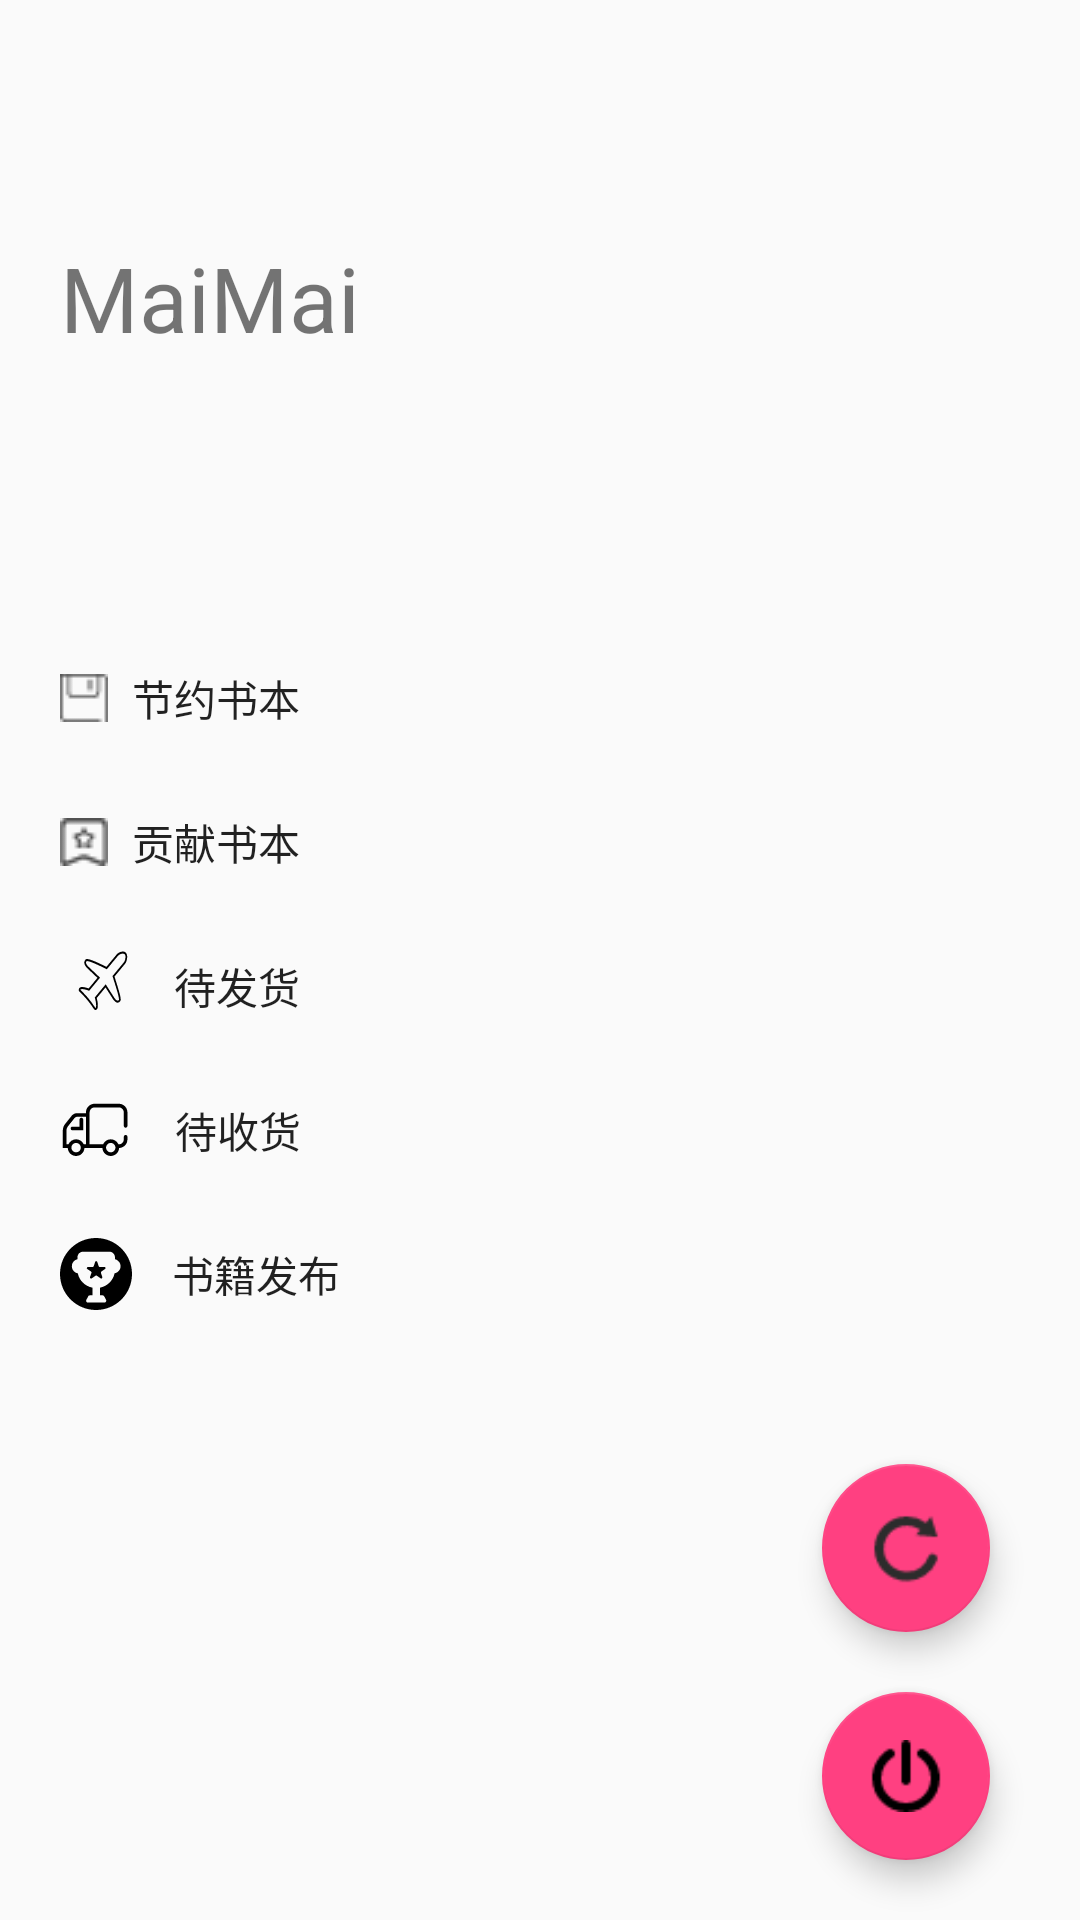

Where to tap for icons on this 1080 x 1920 app screen, as [x,y]:
reset: [906,1548]
